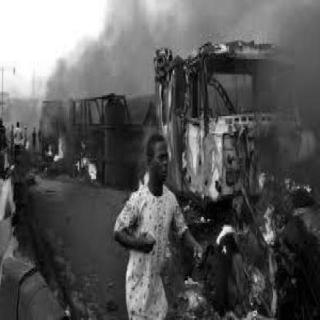Fire: (71, 147, 103, 183), (43, 124, 66, 164)
Smoke: (263, 31, 315, 161)
